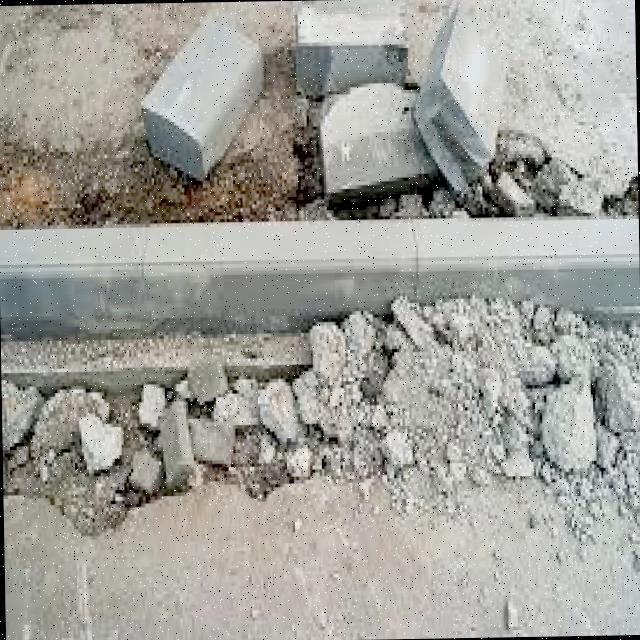curb: (1, 223, 640, 326)
